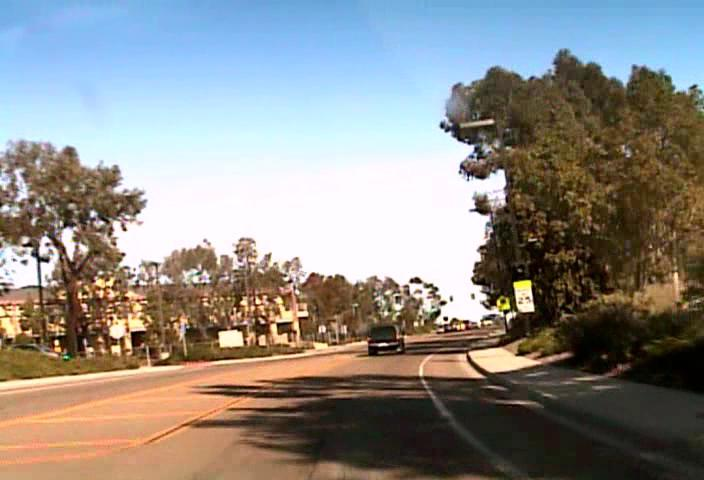schoolSpeedLimit25: (513, 279, 535, 313)
